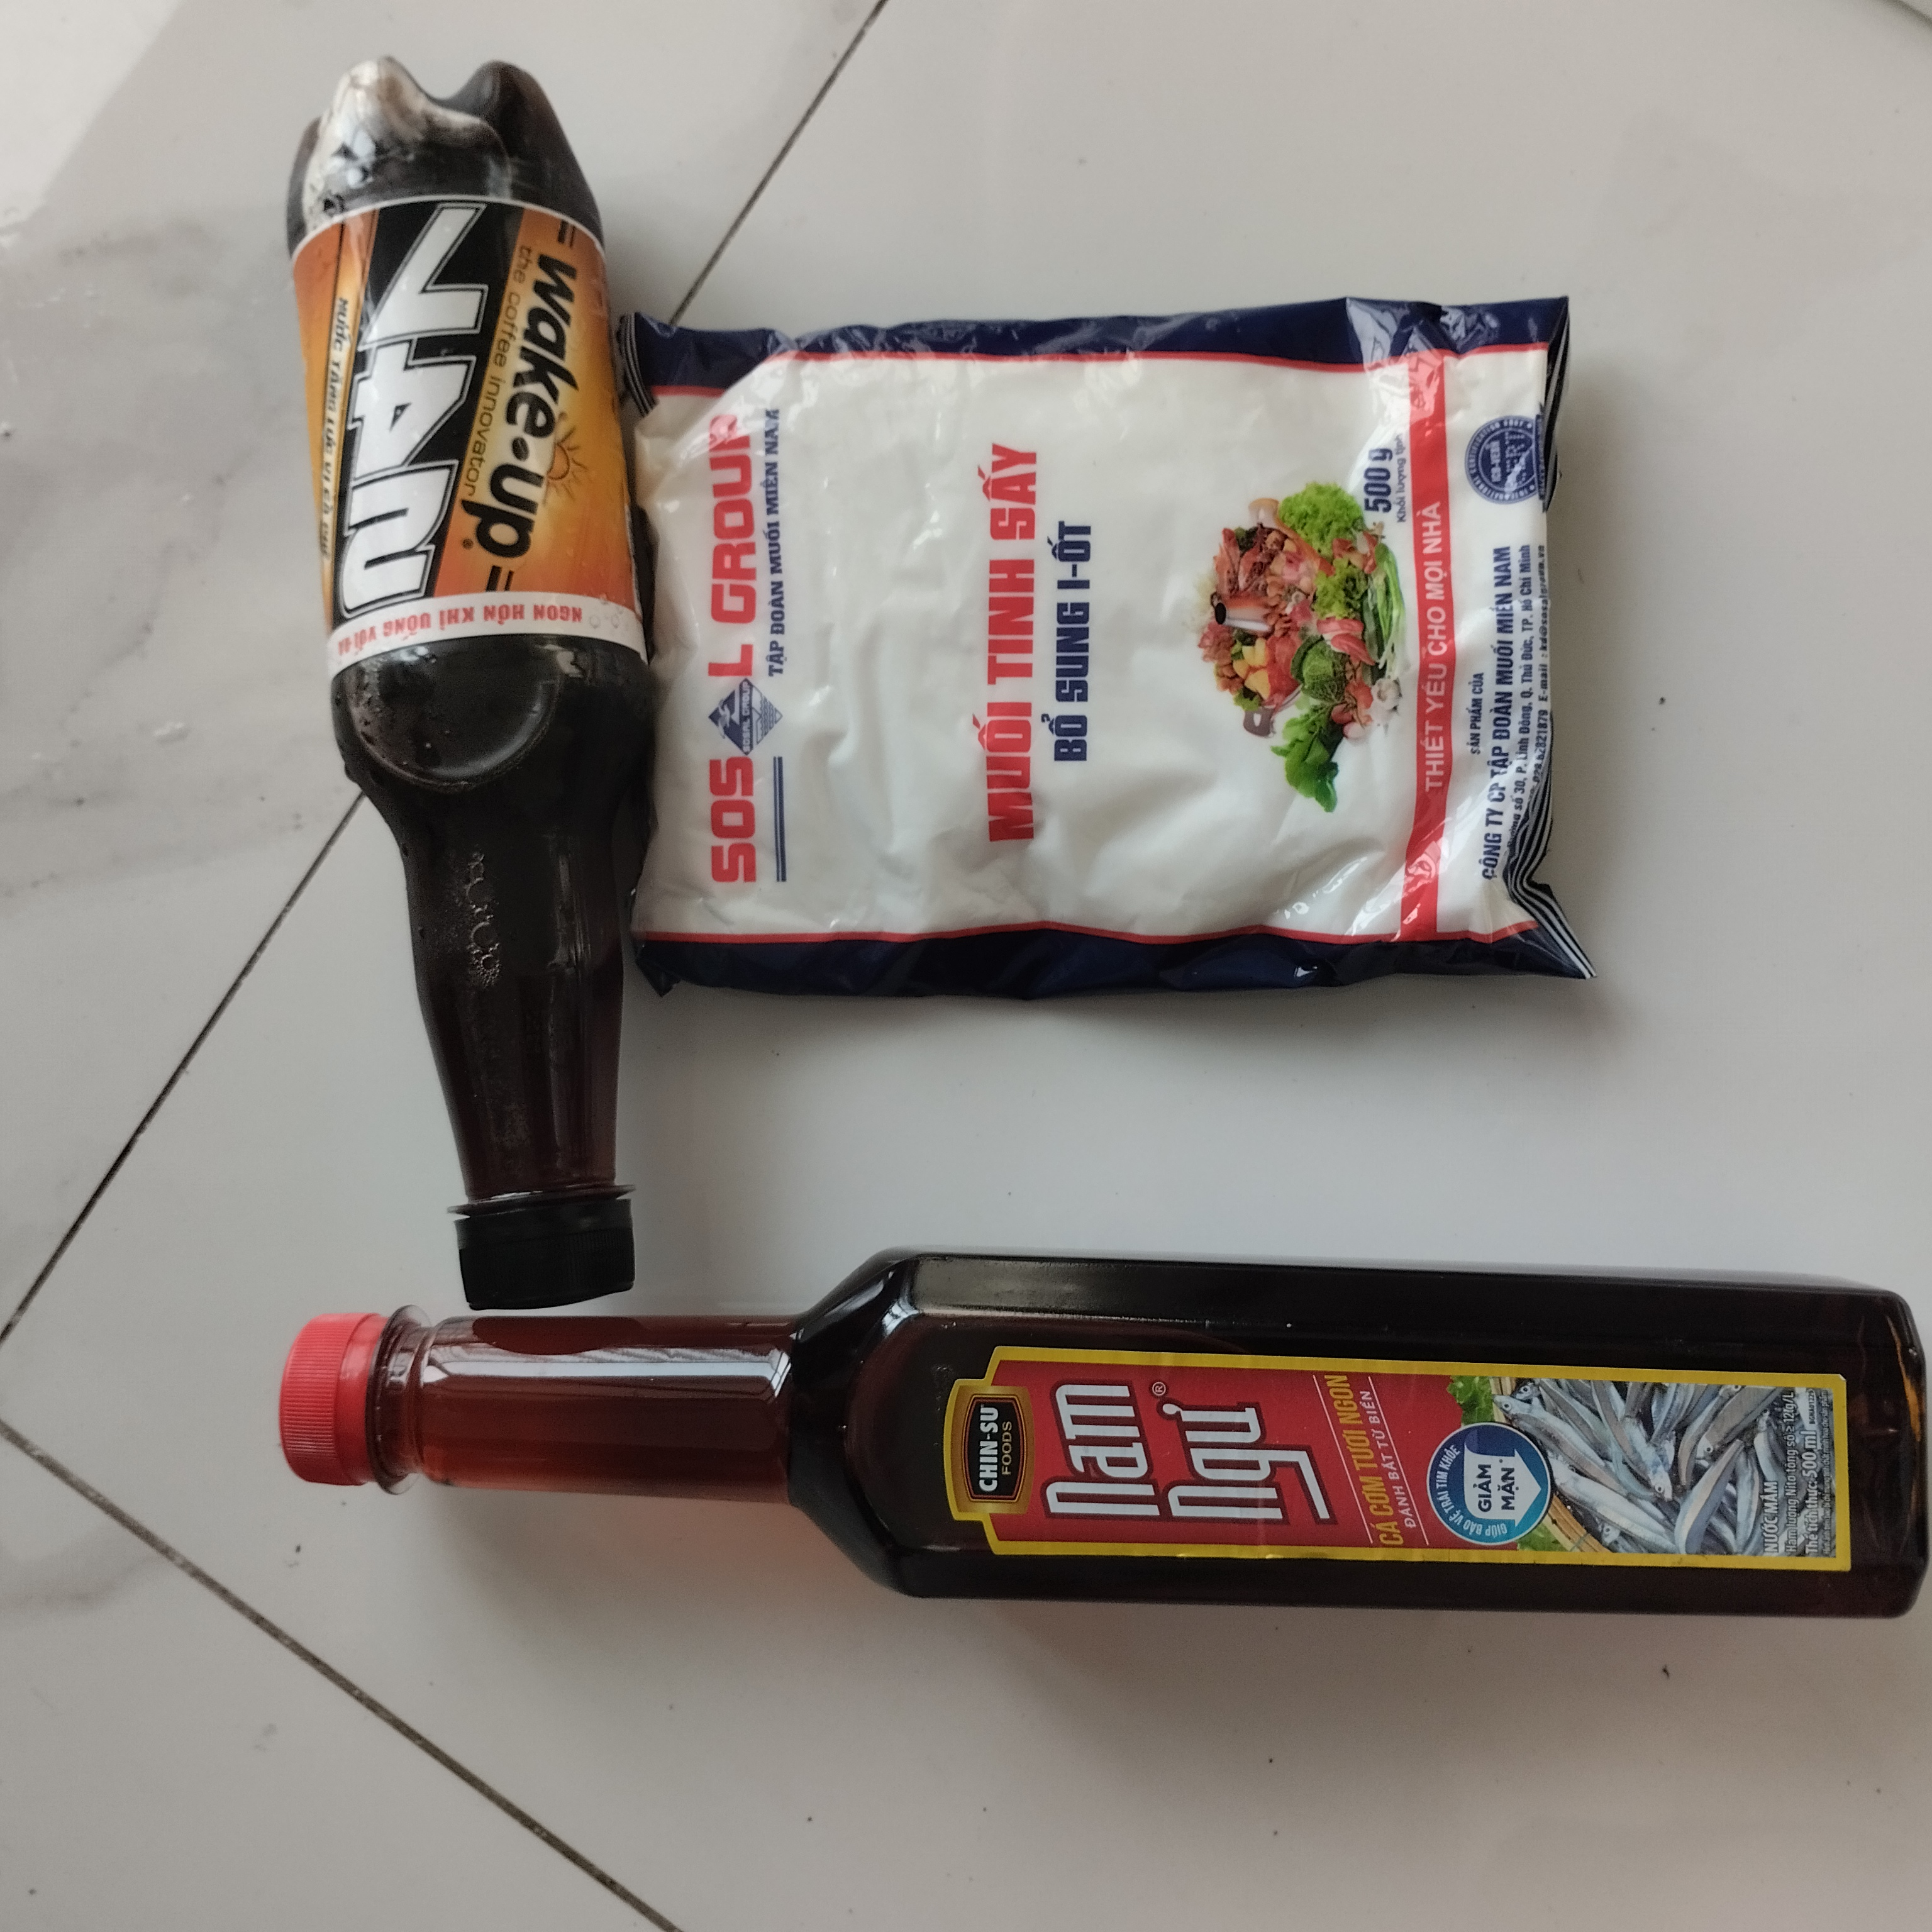247: (280, 37, 678, 1316)
Namngu: (258, 1235, 1932, 1670)
Salt: (603, 287, 1615, 1010)
